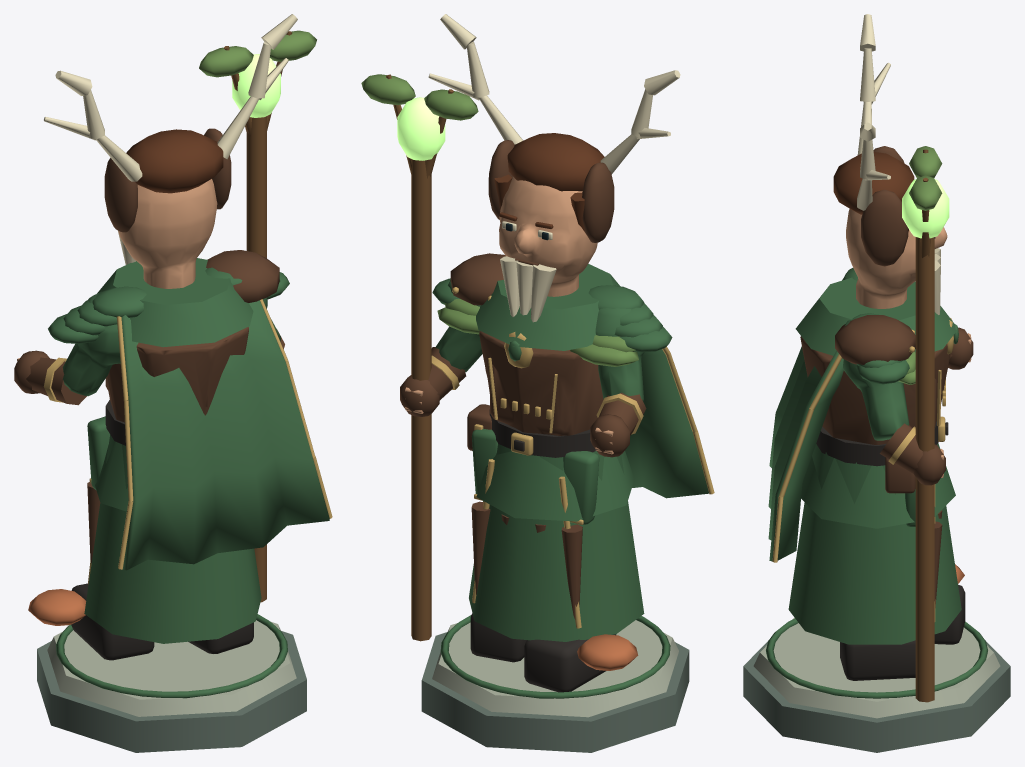
File: advanced_oakherald.glb
The picture shows the model from 3 angles, left to right: view 1: azimuth 30°, elevation 25°; view 2: azimuth 150°, elevation 25°; view 3: azimuth 270°, elevation 25°; orthographic projection. The views are drawn at different scales.
Visible parts, largest first — view 1: Rank inlay.001, Beveled limestone top.001, Boot shaft.002, Octagonal footing.001, Unified face and neck.001, Eye white.002, Auburn eyebrow.002, Living oak staff.001, Leather boot toe.002, Boot cuff.002, Leaf mantle.006, Mushroom cap.001 (+1 smaller); view 2: Rank inlay.001, Boot shaft.002, Octagonal footing.001, Living oak staff.001, Beveled limestone top.001, Unified face and neck.001, Eye white.002, Leather boot toe.002, Auburn eyebrow.002, Leaf mantle.006, Boot cuff.002, Acorn focus.001 (+1 smaller); view 3: Rank inlay.001, Boot shaft.002, Beveled limestone top.001, Octagonal footing.001, Living oak staff.001, Leather boot toe.002, Unified face and neck.001, Eye white.002, Auburn eyebrow.002, Boot cuff.002, Leaf mantle.006, Acorn focus.001.
Part boxes in pixels (bbox=[...]): Rank inlay.001: bbox=[48, 258, 329, 698]; Beveled limestone top.001: bbox=[47, 620, 296, 716]; Boot shaft.002: bbox=[14, 128, 284, 563]; Octagonal footing.001: bbox=[37, 631, 306, 752]; Unified face and neck.001: bbox=[17, 179, 217, 361]; Eye white.002: bbox=[44, 14, 297, 264]; Auburn eyebrow.002: bbox=[126, 129, 223, 193]; Living oak staff.001: bbox=[224, 31, 292, 602]; Leather boot toe.002: bbox=[71, 399, 253, 660]; Boot cuff.002: bbox=[43, 299, 332, 584]; Leaf mantle.006: bbox=[199, 30, 316, 77]; Mushroom cap.001: bbox=[28, 589, 86, 625]; Rank inlay.001: bbox=[432, 264, 708, 698]; Boot shaft.002: bbox=[400, 140, 646, 619]; Octagonal footing.001: bbox=[421, 632, 689, 752]; Living oak staff.001: bbox=[386, 74, 453, 641]; Beveled limestone top.001: bbox=[432, 620, 678, 717]; Unified face and neck.001: bbox=[405, 176, 613, 454]; Eye white.002: bbox=[428, 14, 680, 322]; Leather boot toe.002: bbox=[470, 409, 616, 692]; Auburn eyebrow.002: bbox=[494, 133, 604, 232]; Leaf mantle.006: bbox=[361, 74, 638, 366]; Boot cuff.002: bbox=[431, 287, 714, 628]; Acorn focus.001: bbox=[397, 97, 445, 160]; Rank inlay.001: bbox=[766, 268, 987, 698]; Boot shaft.002: bbox=[800, 146, 973, 607]; Beveled limestone top.001: bbox=[753, 617, 1000, 718]; Octagonal footing.001: bbox=[743, 640, 1010, 752]; Living oak staff.001: bbox=[915, 149, 934, 702]; Leather boot toe.002: bbox=[816, 421, 965, 680]; Unified face and neck.001: bbox=[846, 209, 971, 477]; Eye white.002: bbox=[857, 14, 940, 314]; Auburn eyebrow.002: bbox=[833, 152, 914, 231]; Boot cuff.002: bbox=[772, 318, 953, 621]; Leaf mantle.006: bbox=[898, 146, 942, 384]; Acorn focus.001: bbox=[902, 179, 949, 238].
Size of the model in its own units: 1.06 by 2.28 by 0.88.
